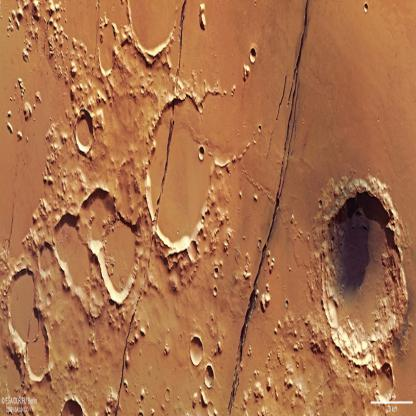craters: (302, 167, 416, 382), (136, 96, 221, 268), (3, 265, 56, 387), (125, 0, 178, 73), (69, 95, 102, 173), (99, 22, 123, 82), (32, 233, 58, 282), (185, 327, 206, 370), (64, 347, 87, 386), (21, 90, 34, 134), (202, 361, 218, 392), (247, 41, 262, 70), (198, 134, 206, 171), (161, 384, 173, 407)
